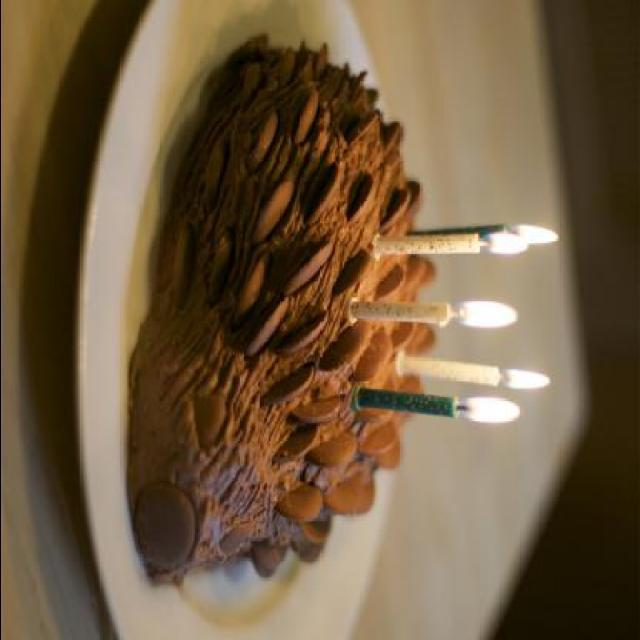Cake: (127, 36, 438, 570)
